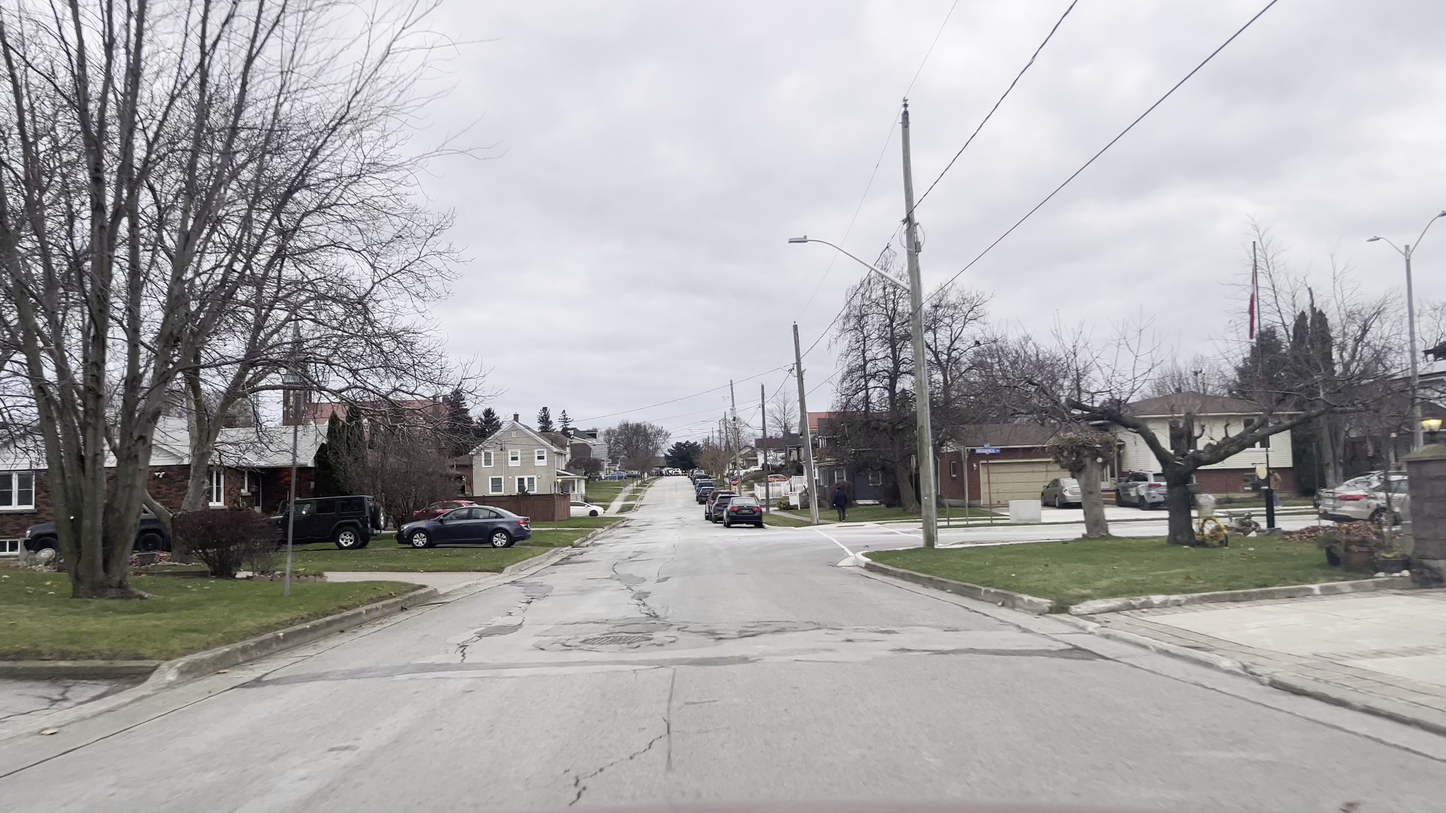cracks: (724, 606, 835, 646), (456, 602, 525, 660)
pothole: (532, 602, 704, 678)
